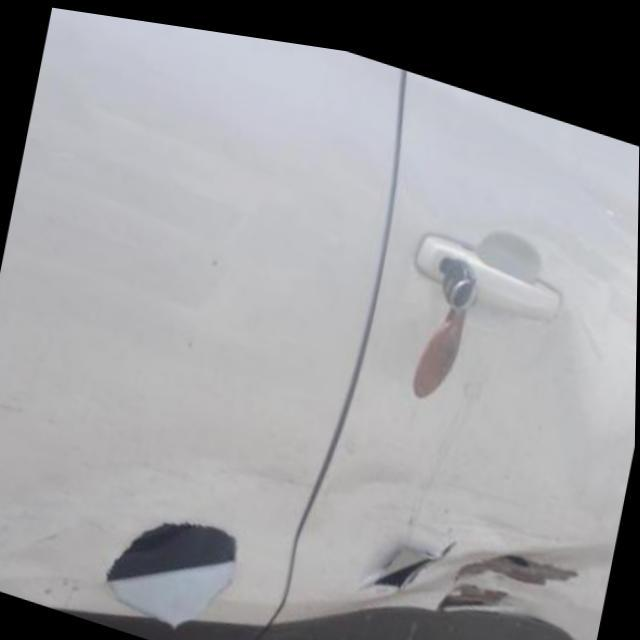crack: (354, 509, 579, 608), (98, 508, 256, 616)
dent: (28, 448, 541, 553)
